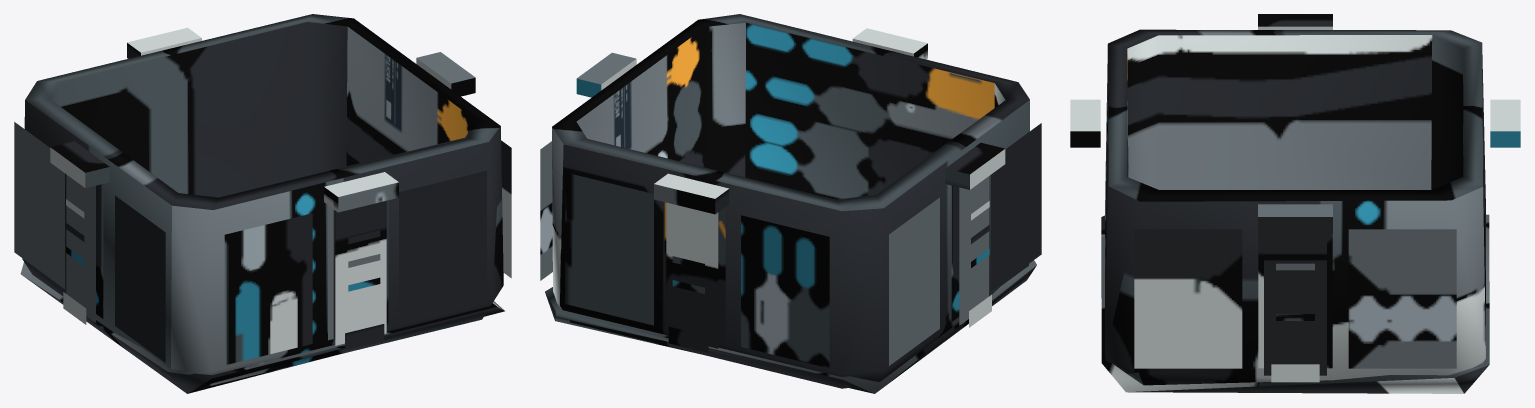
File: S07_Body_LOD3.obj
The picture shows the model from 3 angles, left to right: view 1: azimuth 30°, elevation 25°; view 2: azimuth 150°, elevation 25°; view 3: azimuth 270°, elevation 25°; orthographic projection. The views are drawn at different scales.
Visible parts, largest first — view 1: S07_Body_LOD3.001; view 2: S07_Body_LOD3.001; view 3: S07_Body_LOD3.001.
Part boxes in pixels (x1,y1,x2,y2): S07_Body_LOD3.001: (14,14,511,393); S07_Body_LOD3.001: (540,14,1041,393); S07_Body_LOD3.001: (1070,14,1520,393).
Bounding box in the file's own units: 1.28 × 0.5892 × 1.2.
